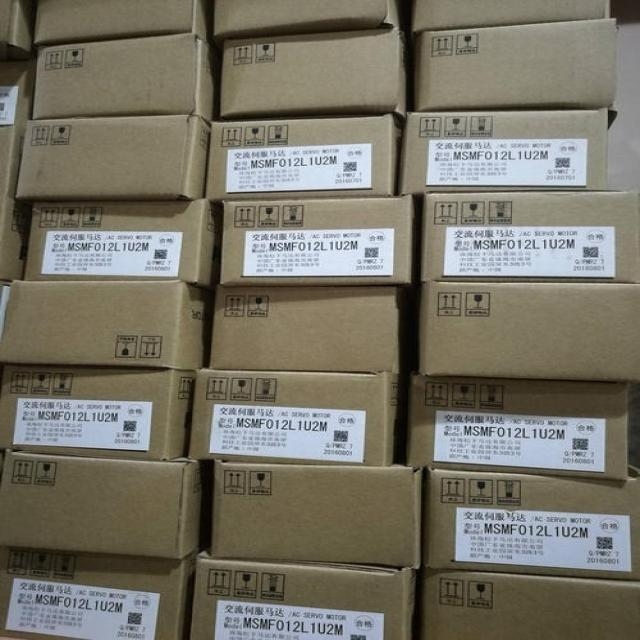box: (421, 468, 640, 581), (407, 374, 631, 481), (210, 460, 424, 568), (0, 449, 206, 559), (419, 281, 640, 381), (188, 546, 416, 640), (188, 369, 401, 466), (420, 193, 640, 282), (413, 18, 618, 112), (0, 362, 195, 460), (0, 546, 201, 640), (0, 280, 214, 368), (24, 198, 224, 289), (398, 109, 608, 195), (210, 285, 411, 373), (15, 114, 209, 204), (221, 197, 412, 287), (33, 33, 218, 125), (220, 29, 407, 119), (204, 114, 397, 201), (420, 569, 640, 640), (35, 0, 210, 46), (0, 57, 36, 279), (212, 0, 401, 38), (412, 0, 613, 32)
